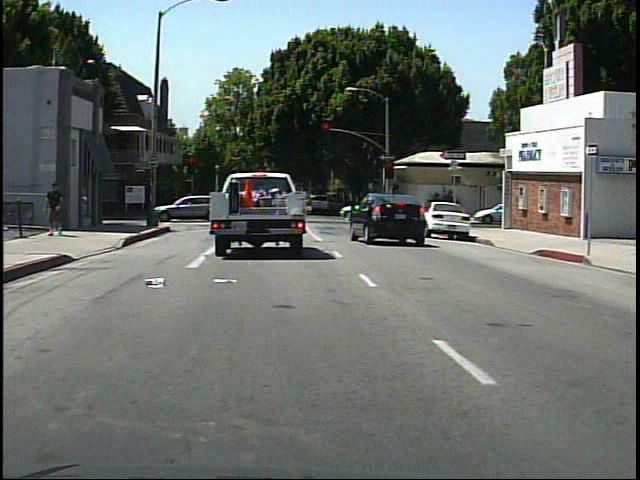person: (46, 179, 72, 239)
